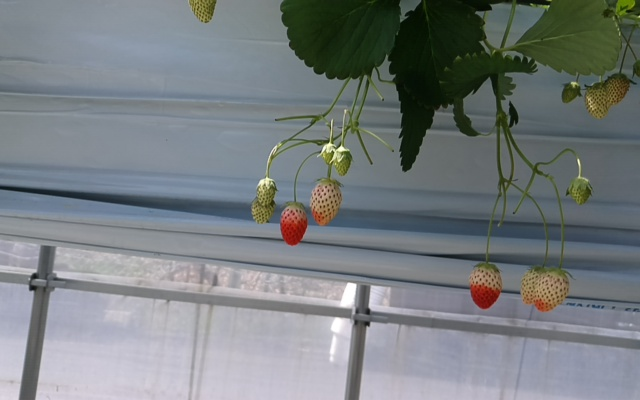GreenStrawberry: (534, 262, 571, 316), (465, 261, 503, 312), (308, 176, 344, 228), (517, 264, 545, 306), (582, 80, 610, 122), (603, 73, 631, 106), (250, 197, 278, 227), (567, 174, 592, 206), (254, 176, 278, 209), (335, 149, 352, 179), (561, 80, 581, 105), (321, 142, 338, 168)
MatureStrawberry: (278, 202, 309, 249)
